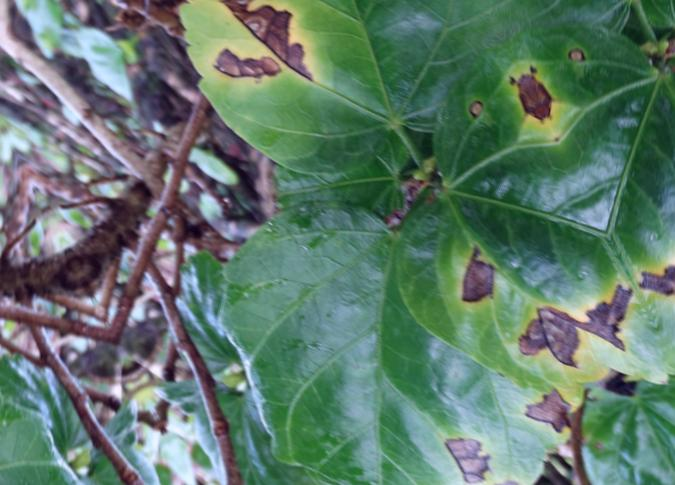Tomato Septoria leaf spot: (331, 40, 675, 483), (132, 0, 524, 216)
